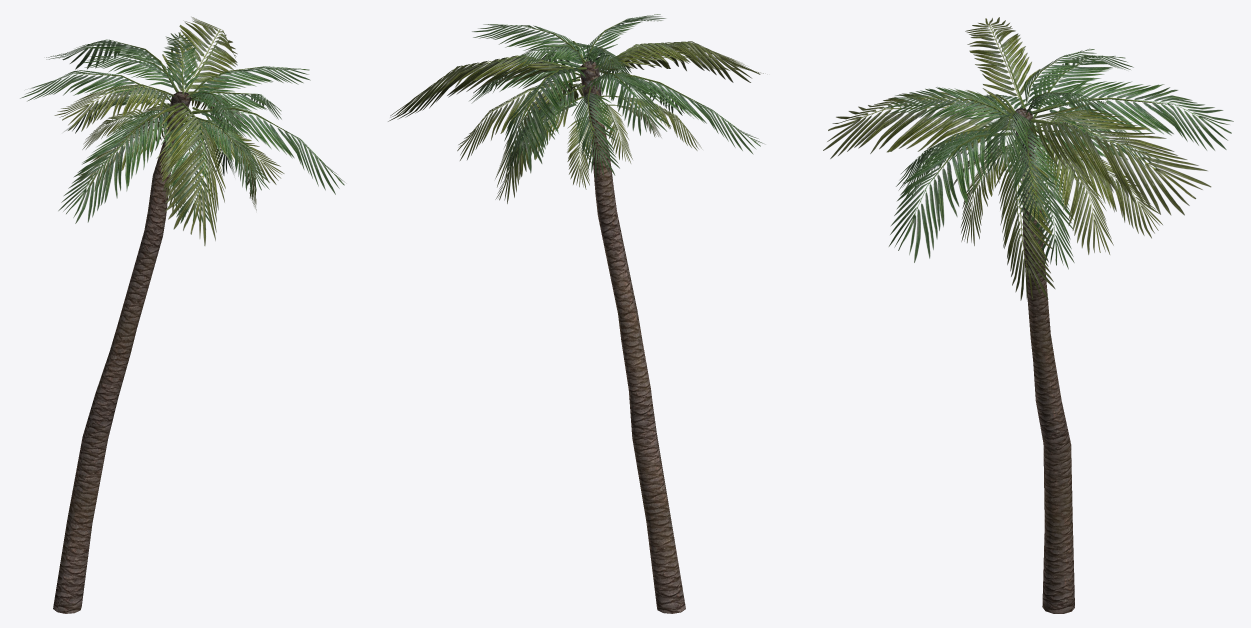
File: bent_c.glb
3 renders of one model, left to right at view 1: azimuth 30°, elevation 25°; view 2: azimuth 150°, elevation 25°; view 3: azimuth 270°, elevation 25°, orthographic. The views are drawn at different scales.
Visible parts, largest first — view 1: Palm_004_w; view 2: Palm_004_w; view 3: Palm_004_w.
Part boxes in pixels (x1,y1,x2,y2): Palm_004_w: (20,17,344,613); Palm_004_w: (388,14,763,613); Palm_004_w: (823,17,1233,613).
Size of the model in its own units: 4.19 by 7.5 by 4.87.
1 material, 1 textured.
